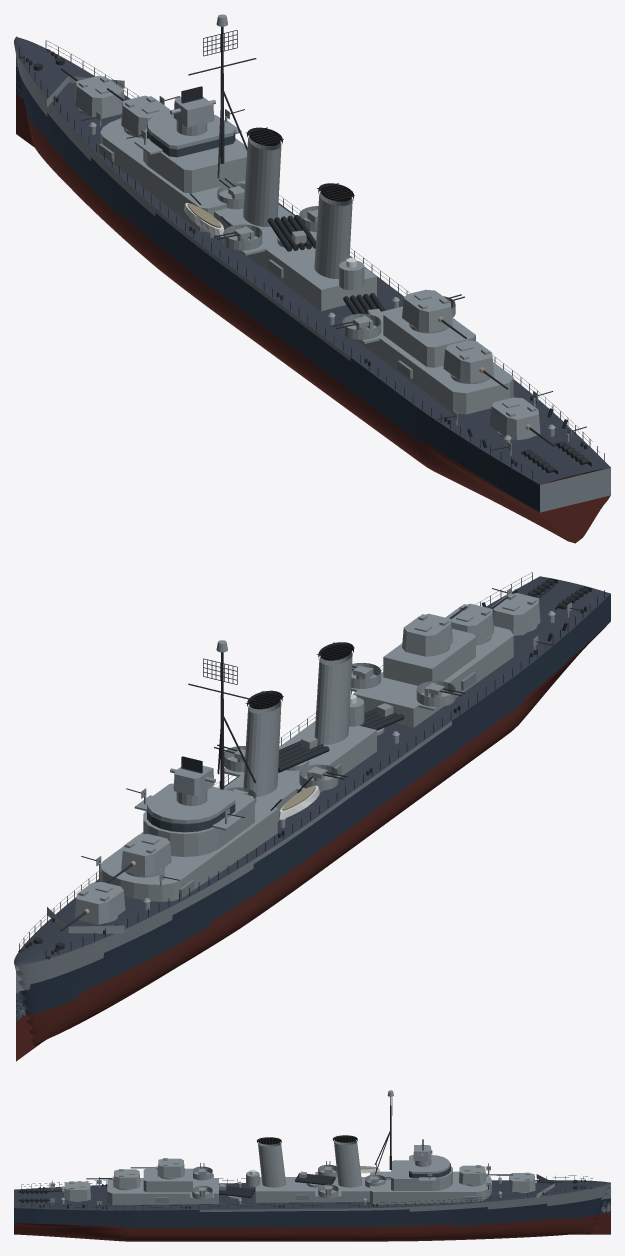
The model's file is fletcher_m22.glb.
The picture shows the model from 3 angles, top to bottom: view 1: azimuth 30°, elevation 25°; view 2: azimuth 150°, elevation 25°; view 3: azimuth 270°, elevation 25°; orthographic projection. The views are drawn at different scales.
Visible parts, largest first — view 1: Hull, Mount53, Mount54, Mount55, Mount51, Mount52, Director, Torpedo1; view 2: Hull, Mount52, Mount53, Mount51, Mount55, Mount54, Director, Torpedo1, Torpedo2; view 3: Hull, Mount53, Mount54, Mount52, Mount55, Mount51, Torpedo1, Torpedo2, Director.
Boxes of the visible parts, x1,y1,x2,y2 form: Hull: [14, 14, 610, 543]; Mount53: [402, 289, 466, 338]; Mount54: [443, 340, 508, 389]; Mount55: [490, 397, 554, 446]; Mount51: [60, 68, 124, 118]; Mount52: [107, 88, 169, 138]; Director: [170, 86, 215, 127]; Torpedo1: [267, 215, 315, 251]; Hull: [14, 572, 610, 1061]; Mount52: [107, 834, 171, 883]; Mount53: [402, 606, 466, 656]; Mount51: [60, 882, 125, 930]; Mount55: [491, 585, 554, 635]; Mount54: [445, 596, 508, 645]; Director: [170, 756, 215, 795]; Torpedo1: [278, 735, 329, 772]; Torpedo2: [359, 703, 404, 735]; Hull: [14, 1090, 610, 1241]; Mount53: [130, 1158, 184, 1179]; Mount54: [86, 1169, 140, 1190]; Mount52: [459, 1165, 512, 1186]; Mount55: [37, 1181, 90, 1201]; Mount51: [508, 1172, 562, 1193]; Torpedo1: [295, 1171, 335, 1187]; Torpedo2: [219, 1184, 254, 1198]; Director: [413, 1139, 431, 1160].
Size of the model in its own units: 15.4 by 30.38 by 115.
